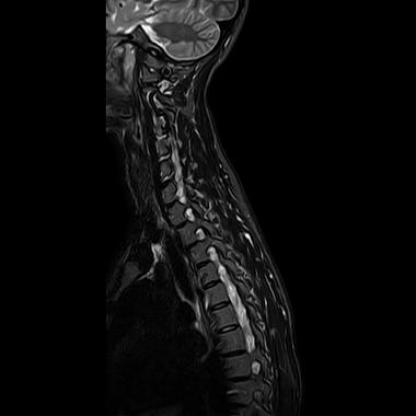Disc Bulgerotation: (156, 152, 171, 167)
